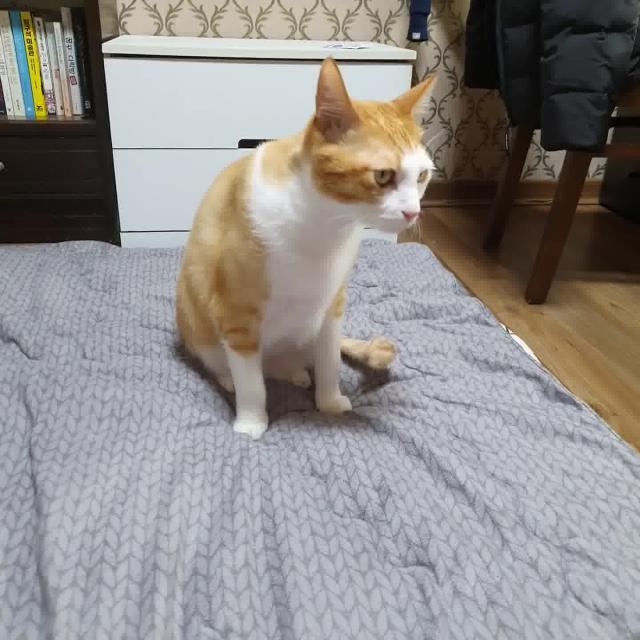cat: (150, 34, 447, 464)
